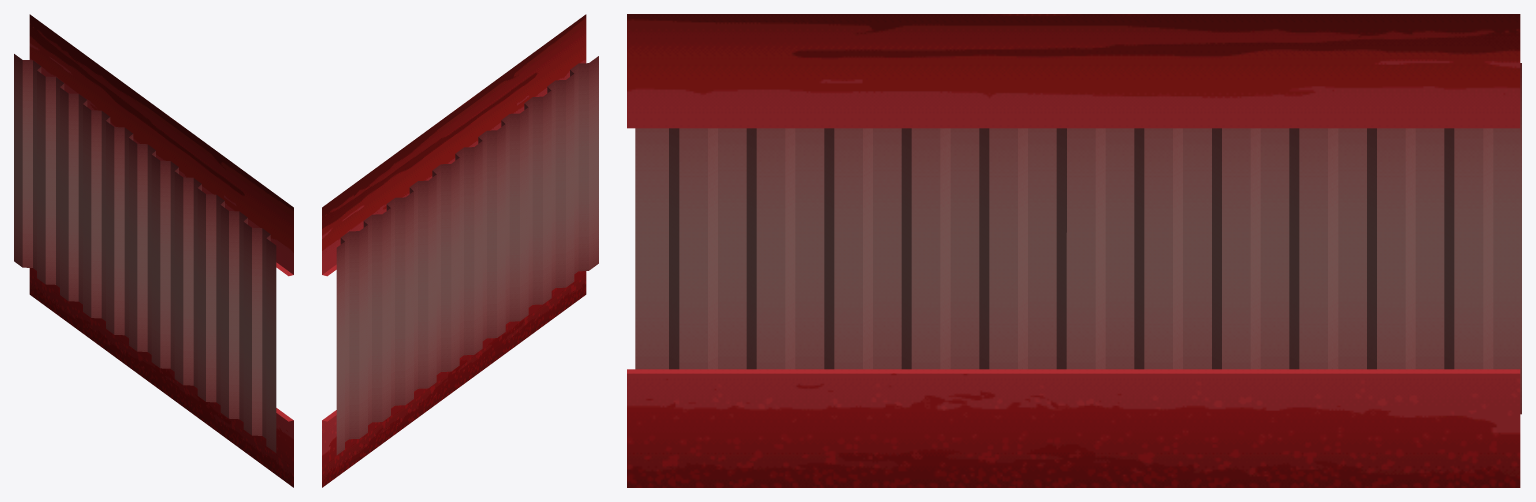
The model's file is InsideContainerWall.fbx.
The picture shows the model from 3 angles, left to right: view 1: azimuth 30°, elevation 25°; view 2: azimuth 150°, elevation 25°; view 3: azimuth 270°, elevation 25°; orthographic projection. The views are drawn at different scales.
Visible parts, largest first — view 1: Cube.011, Plane.001, Plane.002; view 2: Cube.011, Plane.001, Plane.002; view 3: Cube.011, Plane.002, Plane.001.
Boxes of the visible parts, x1,y1,x2,y2 form: Cube.011: (14, 54, 276, 452); Plane.001: (29, 14, 293, 276); Plane.002: (29, 268, 293, 487); Cube.011: (336, 56, 598, 454); Plane.001: (322, 14, 586, 276); Plane.002: (322, 271, 586, 487); Cube.011: (635, 63, 1521, 414); Plane.002: (627, 369, 1520, 487); Plane.001: (627, 14, 1520, 128).
Size of the model in its own units: 50.11 by 899 by 1539.
Materials: 1 (1 with a texture image).
